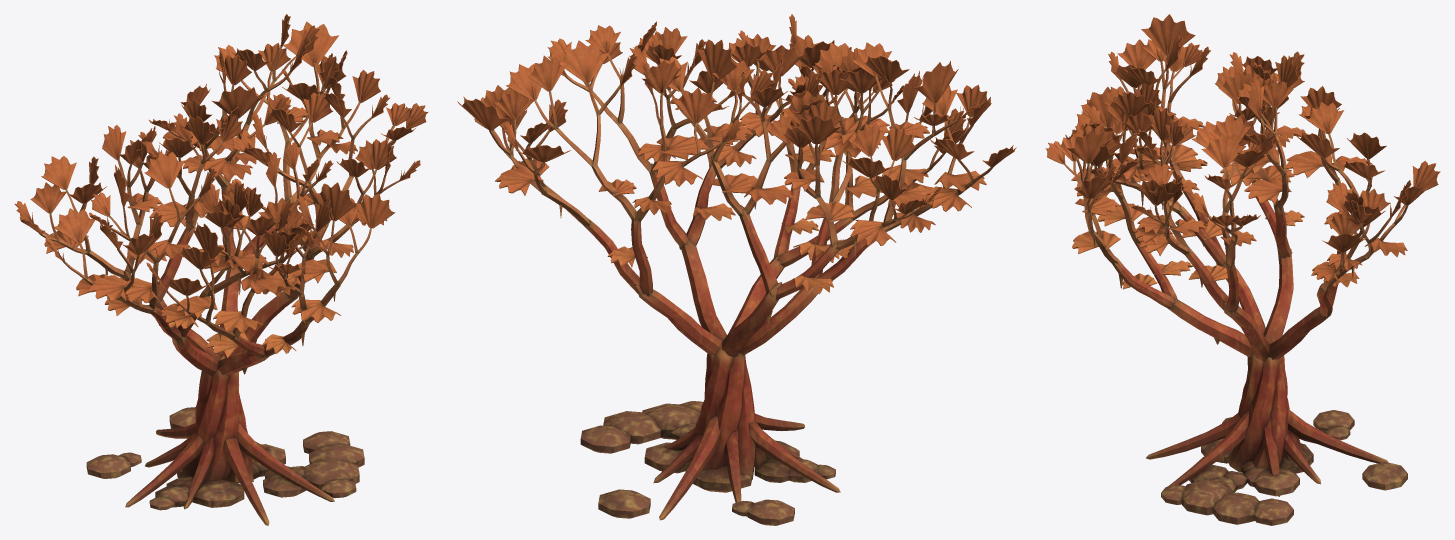
Rendered from mars_ferric.glb.
The picture shows the model from 3 angles, left to right: view 1: azimuth 30°, elevation 25°; view 2: azimuth 150°, elevation 25°; view 3: azimuth 270°, elevation 25°; orthographic projection. The views are drawn at different scales.
Parts seen in each view (by area): view 1: ferric_body; view 2: ferric_body; view 3: ferric_body.
Part boxes in pixels (box(x1,y1,x2,y2)): ferric_body: box(14, 14, 428, 525); ferric_body: box(457, 14, 1016, 525); ferric_body: box(1045, 14, 1440, 525).
Size of what is drawn, in the model's own units: 4.84 by 4.53 by 4.07.
Materials: 3 (3 with a texture image).
